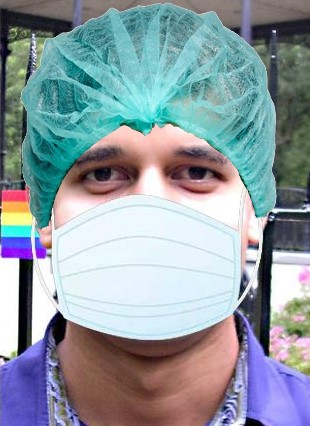with_mask_and_cap: (21, 9, 272, 340)
